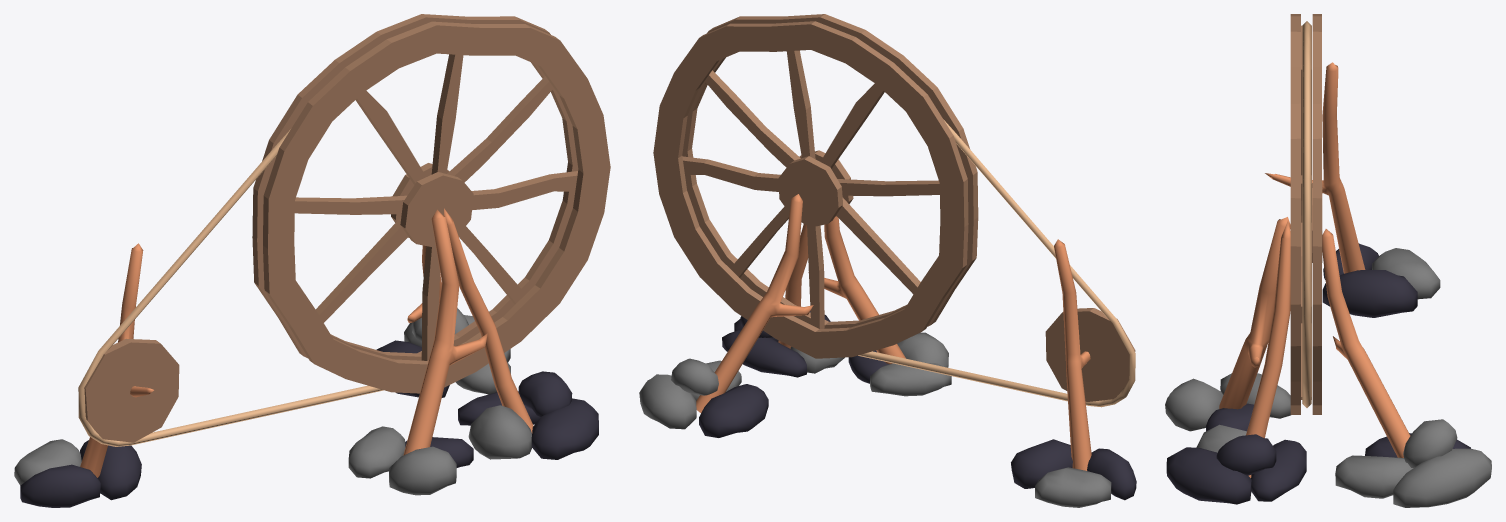
Rendered from s_cordTwisting.fbx.
3 renders of one model, left to right at view 1: azimuth 30°, elevation 25°; view 2: azimuth 150°, elevation 25°; view 3: azimuth 270°, elevation 25°, orthographic. The views are drawn at different scales.
Visible parts, largest first — view 1: cord_exchanger_cardboard, cord_exchanger_stones, cord_exchanger_sticks, cord_thread; view 2: cord_exchanger_cardboard, cord_exchanger_stones, cord_exchanger_sticks, cord_thread; view 3: cord_exchanger_stones, cord_exchanger_sticks, cord_exchanger_cardboard, cord_thread.
Boxes of the visible parts, x1=… form: cord_exchanger_cardboard: x1=84, y1=14, x2=610, y2=442; cord_exchanger_stones: x1=14, y1=308, x2=598, y2=507; cord_exchanger_sticks: x1=80, y1=208, x2=533, y2=477; cord_thread: x1=78, y1=129, x2=383, y2=446; cord_exchanger_cardboard: x1=653, y1=14, x2=1135, y2=401; cord_exchanger_stones: x1=639, y1=311, x2=1136, y2=507; cord_exchanger_sticks: x1=696, y1=194, x2=1091, y2=470; cord_thread: x1=858, y1=119, x2=1135, y2=407; cord_exchanger_stones: x1=1165, y1=243, x2=1491, y2=507; cord_exchanger_sticks: x1=1219, y1=62, x2=1410, y2=477; cord_exchanger_cardboard: x1=1290, y1=14, x2=1322, y2=414; cord_thread: x1=1302, y1=21, x2=1311, y2=407.
Bounding box in the file's own units: 206 × 104 × 151.
